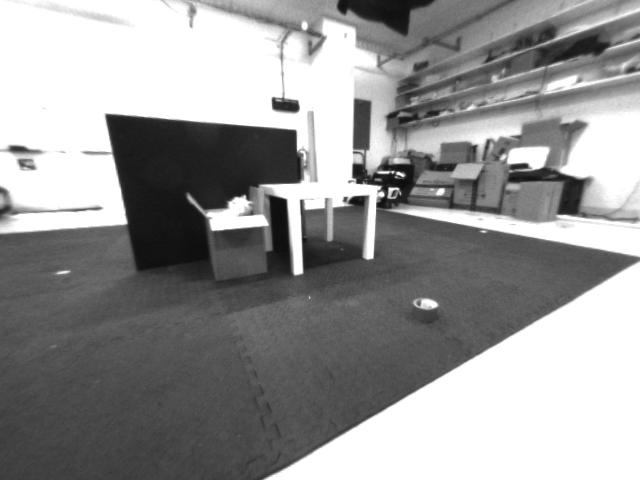dogtoy: (405, 291, 446, 333)
